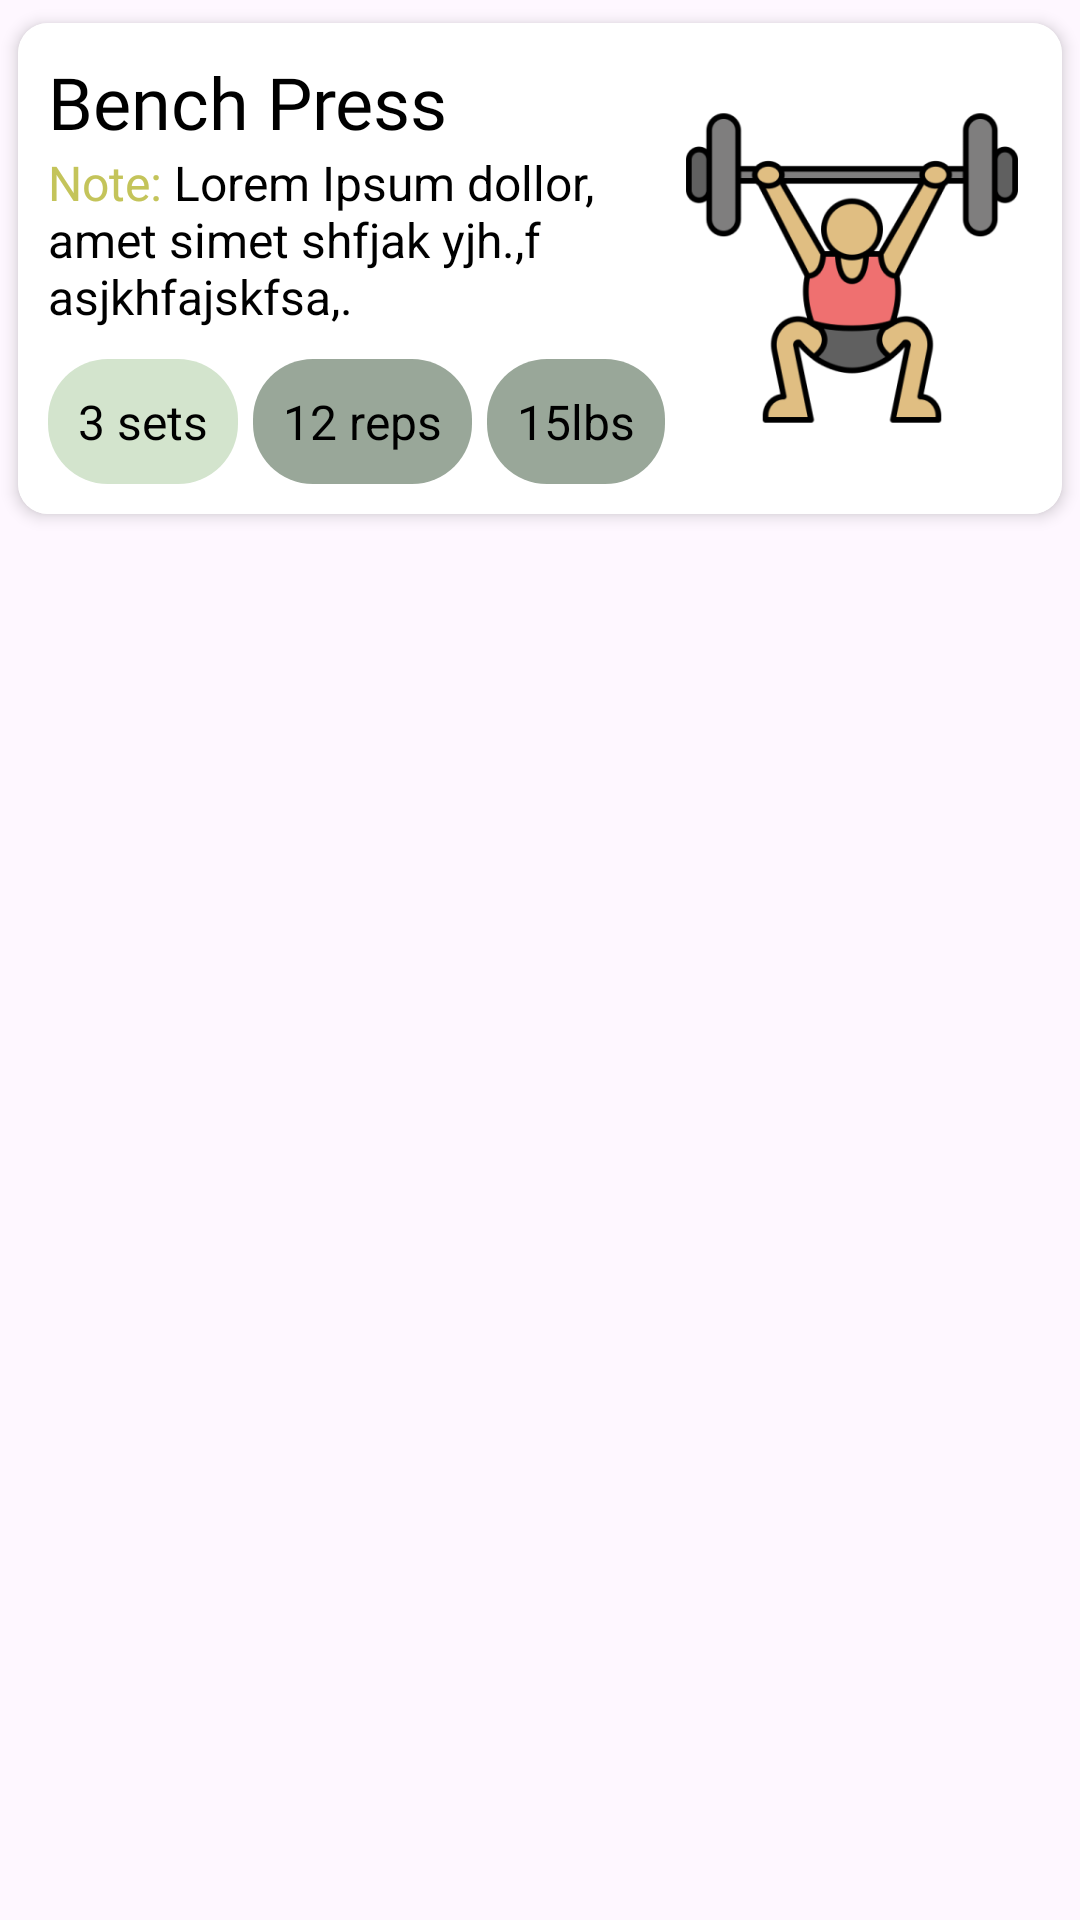

Icons on this 1080px x 1920px Android screen, each with the point to tap as [x,y]:
weight lifting: [852,268]
